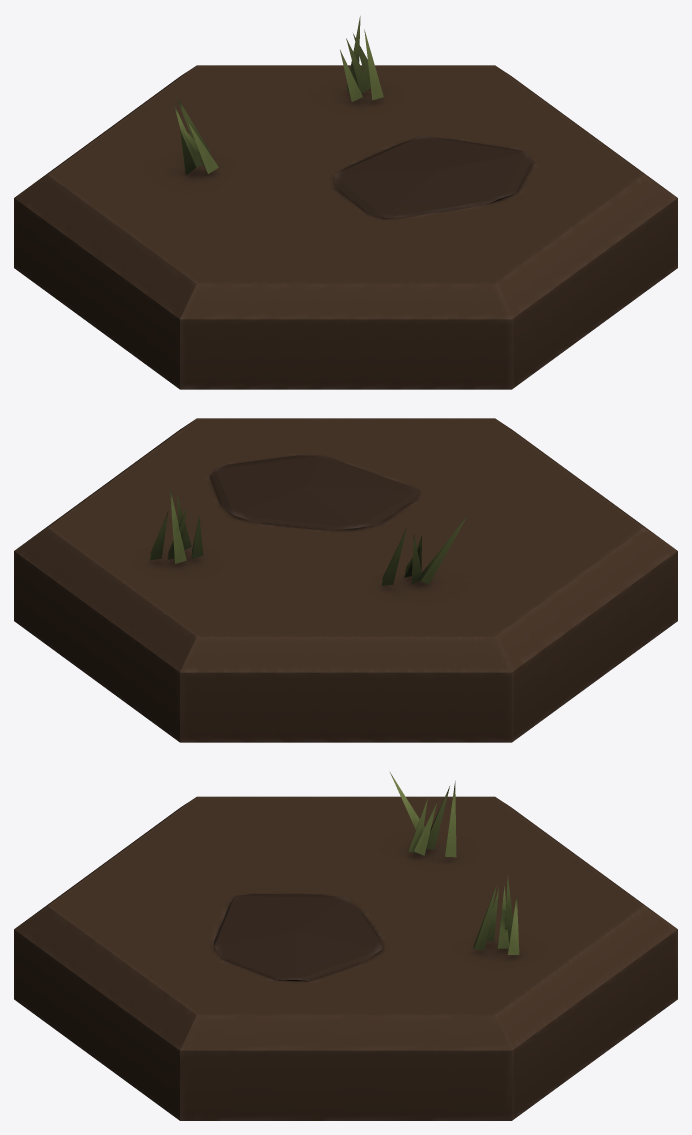
File: tile_hex_peat_b.glb
3 views of the same model, one above another, from view 1: azimuth 30°, elevation 25°; view 2: azimuth 150°, elevation 25°; view 3: azimuth 270°, elevation 25° (orthographic).
Visible parts, largest first — view 1: tile_hex_peat_b; view 2: tile_hex_peat_b; view 3: tile_hex_peat_b.
Boxes of the visible parts, left/top/right/bottom form: tile_hex_peat_b: left=14, top=16, right=677, bottom=389; tile_hex_peat_b: left=14, top=418, right=677, bottom=742; tile_hex_peat_b: left=14, top=772, right=677, bottom=1120.
Bounding box in the file's own units: 1.12 × 0.3663 × 1.29.
1 material, 1 textured.
